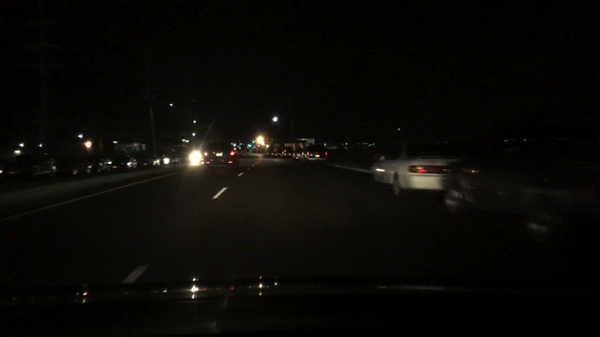car: (440, 144, 598, 239), (371, 138, 480, 197), (0, 151, 58, 191), (200, 139, 240, 170), (110, 154, 139, 172), (70, 156, 96, 176), (306, 142, 329, 161), (96, 156, 114, 172), (142, 154, 162, 168), (161, 153, 181, 165), (291, 147, 306, 161), (300, 145, 313, 161), (279, 147, 295, 159), (188, 150, 204, 162), (265, 147, 279, 159), (235, 147, 247, 156)
traffic light: (251, 140, 256, 145), (248, 145, 254, 147), (247, 146, 250, 150)
